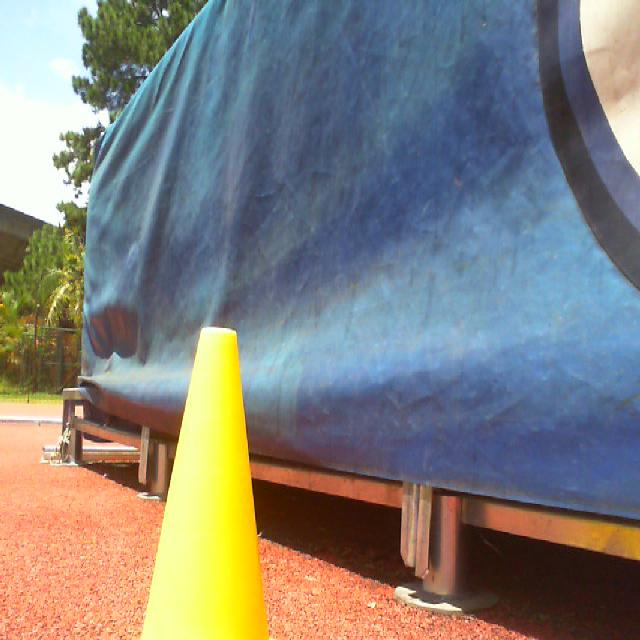cone: (140, 326, 276, 640)
